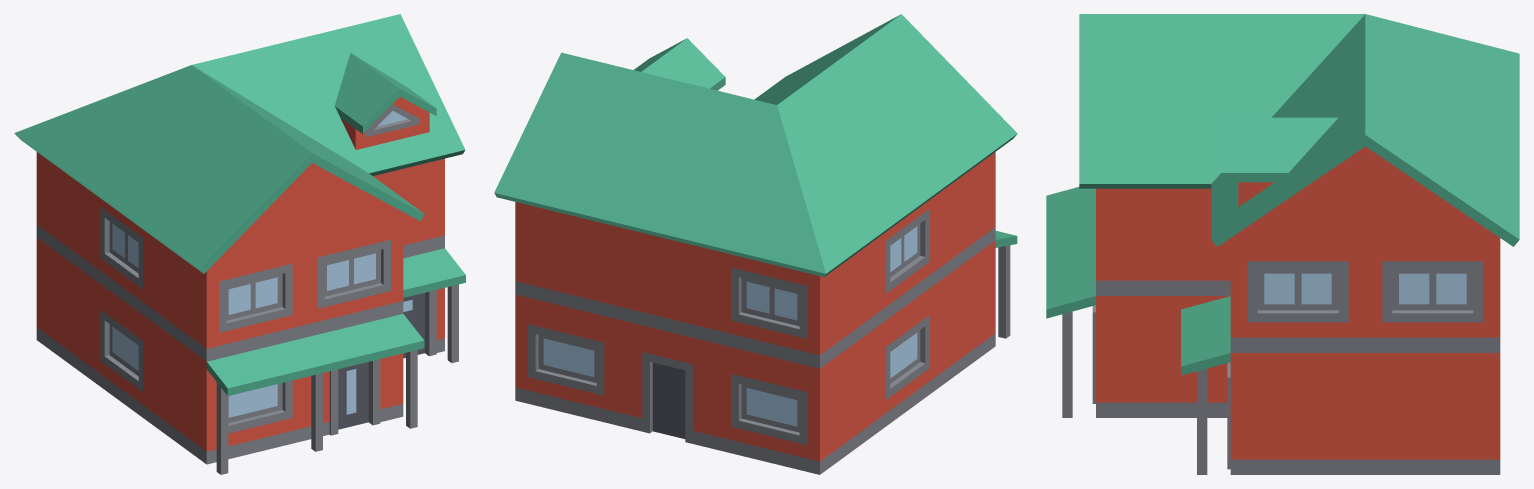
The model's file is House Type 02.glb.
3 renders of one model, left to right at view 1: azimuth 30°, elevation 25°; view 2: azimuth 150°, elevation 25°; view 3: azimuth 270°, elevation 25°, orthographic. The views are drawn at different scales.
Visible parts, largest first — view 1: house_type02; view 2: house_type02; view 3: house_type02.
Part boxes in pixels (x1=…): house_type02: x1=14, y1=14, x2=465, y2=474; house_type02: x1=494, y1=14, x2=1017, y2=474; house_type02: x1=1046, y1=14, x2=1519, y2=474.
Bounding box in the file's own units: 1.31 × 1.14 × 1.41.
